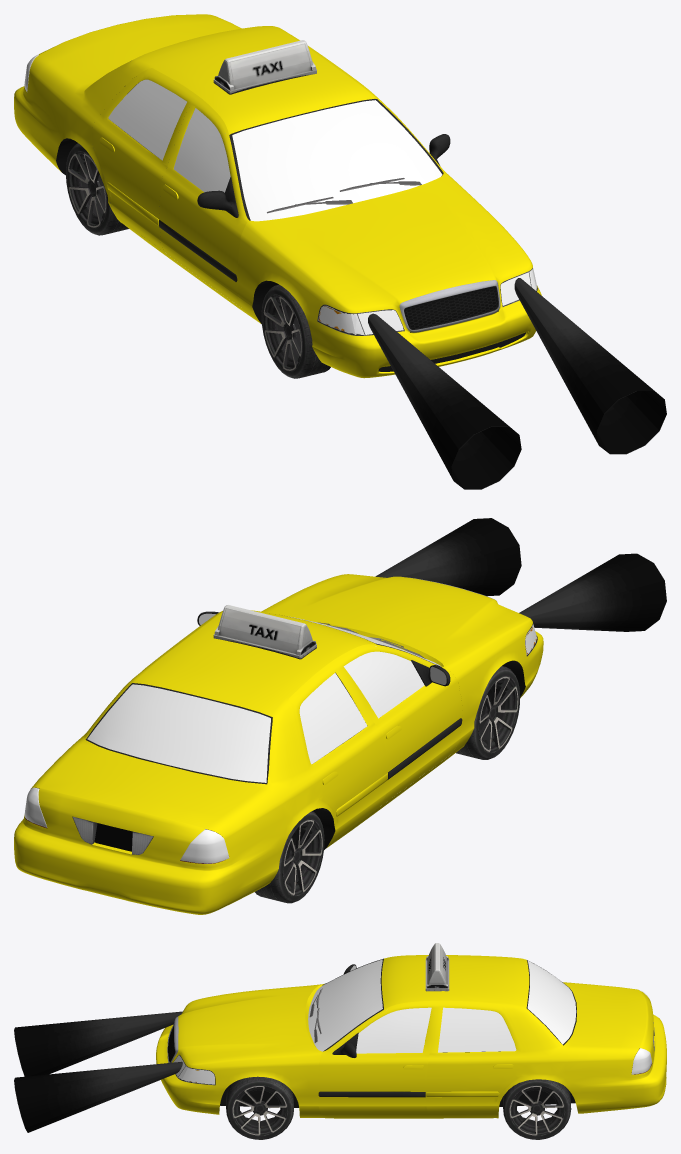
The model's file is crown_Taxi.fbx.
3 views of the same model, one above another, from view 1: azimuth 30°, elevation 25°; view 2: azimuth 150°, elevation 25°; view 3: azimuth 270°, elevation 25° (orthographic). The views are drawn at different scales.
Visible parts, largest first — view 1: Body, mirrior, RearDoorRight, lightbeamRight, lightbeamLeft, Hood, rotiform_s, rotiform_s001, light_mirrior, Wheel_FR, Wheel_BR; view 2: Body, mirrior, RearDoorRight, lightbeamRight, lightbeamLeft, Hood, rotiform_s001, rotiform_s, light_mirrior, Wheel_BR, Wheel_FR, LicensePlate; view 3: Body, RearDoorLeft, mirrior, lightbeamLeft, lightbeamRight, rotiform_s003, rotiform_s002, Wheel_FL, Wheel_BL, Hood, light_mirrior.
Part boxes in pixels (x1,y1,x2,y2): Body: [14, 14, 541, 378]; mirrior: [173, 100, 442, 221]; RearDoorRight: [92, 68, 197, 251]; lightbeamRight: [368, 313, 521, 489]; lightbeamLeft: [514, 278, 666, 454]; Hood: [213, 40, 316, 94]; rotiform_s: [263, 294, 302, 371]; rotiform_s001: [67, 151, 107, 228]; light_mirrior: [24, 14, 537, 335]; Wheel_FR: [261, 284, 330, 378]; Wheel_BR: [66, 143, 128, 235]; Body: [14, 574, 543, 914]; mirrior: [87, 616, 441, 782]; RearDoorRight: [289, 662, 387, 840]; lightbeamRight: [519, 553, 666, 631]; lightbeamLeft: [375, 518, 521, 596]; Hood: [213, 605, 316, 659]; rotiform_s001: [282, 819, 322, 895]; rotiform_s: [478, 676, 518, 752]; light_mirrior: [24, 624, 536, 863]; Wheel_BR: [255, 811, 324, 903]; Wheel_FR: [456, 666, 520, 759]; LicensePlate: [94, 823, 132, 851]; Body: [156, 955, 666, 1118]; RearDoorLeft: [426, 1000, 526, 1114]; mirrior: [308, 959, 576, 1053]; lightbeamLeft: [14, 1061, 182, 1132]; lightbeamRight: [14, 1011, 182, 1076]; rotiform_s003: [509, 1085, 565, 1135]; rotiform_s002: [232, 1085, 287, 1135]; Wheel_FL: [226, 1076, 293, 1139]; Wheel_BL: [503, 1079, 571, 1139]; Hood: [425, 943, 449, 991]; light_mirrior: [173, 990, 651, 1084].
Bounding box in the file's own units: 215 × 172 × 683.
